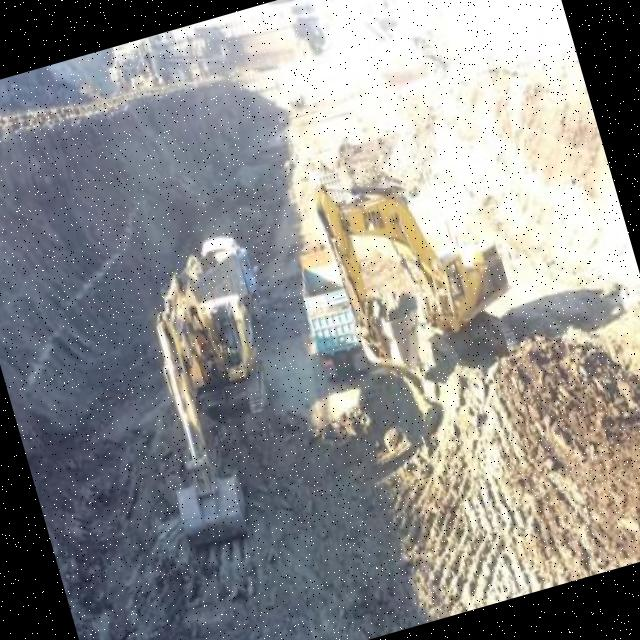Dump Truck: (288, 240, 368, 390), (168, 225, 269, 339)
Excavator: (304, 138, 534, 420), (114, 254, 314, 563)
